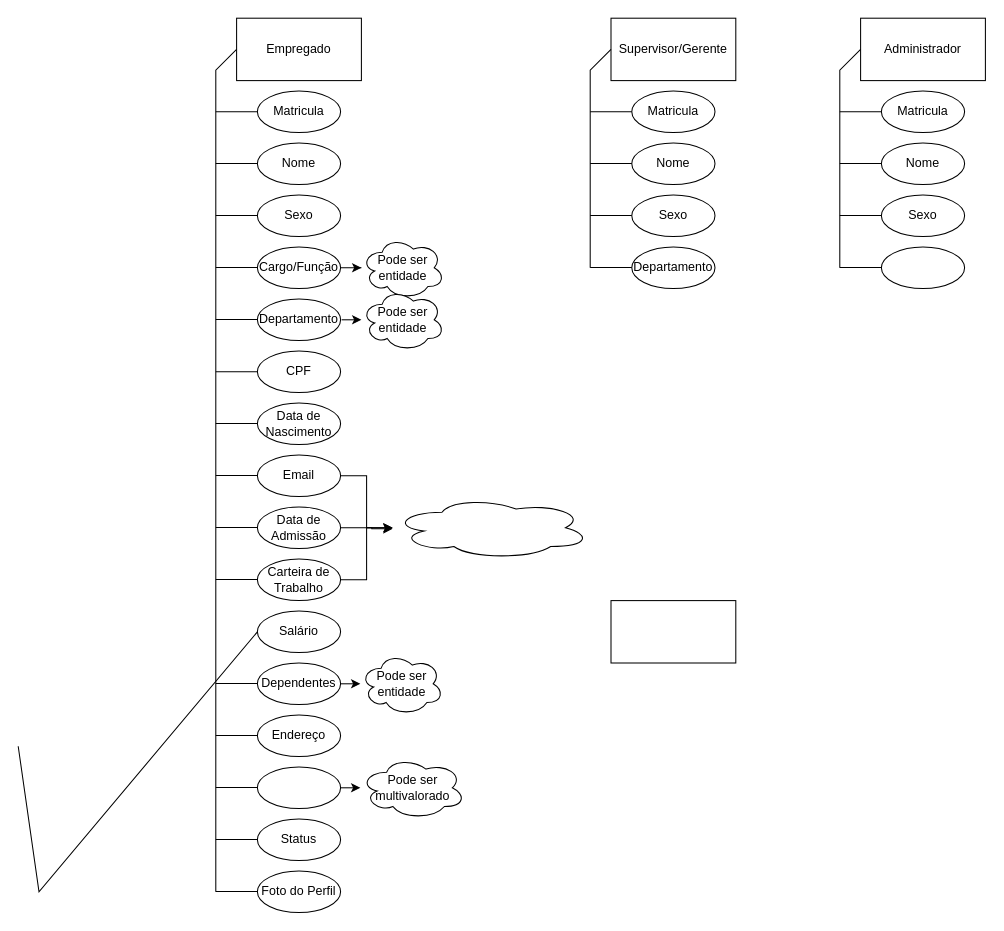
Some shapes in this 1004 by 931 pixel diagram are drawn without their labels. The shapes that lost their labels are listed below. From the top down, each one's centre as x and y in pixels, then its label:
At [491,527]: "Pode ser gerenciada a visualização".
At [673,631]: "Dependente".
At [298,787]: "Telefone".
